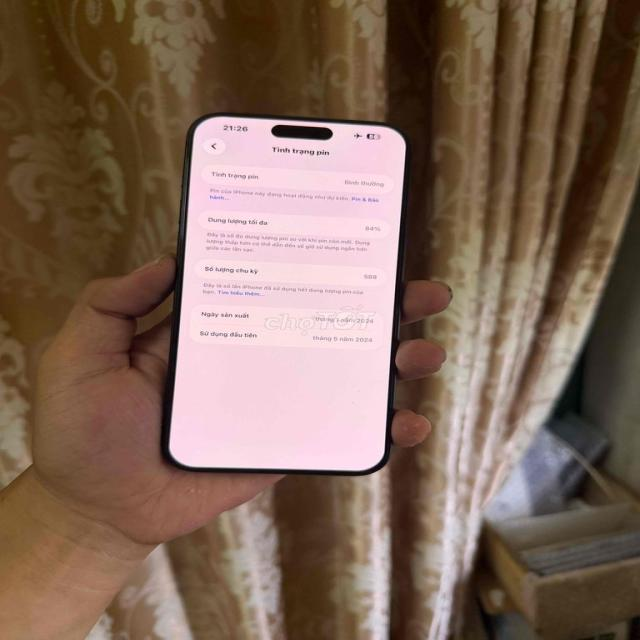gen_15: (163, 96, 423, 491)
